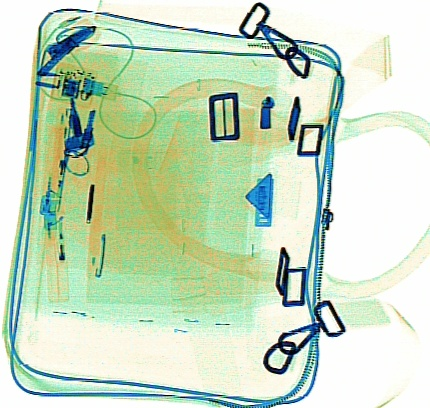lighter: (39, 210, 71, 304), (38, 124, 68, 216)
